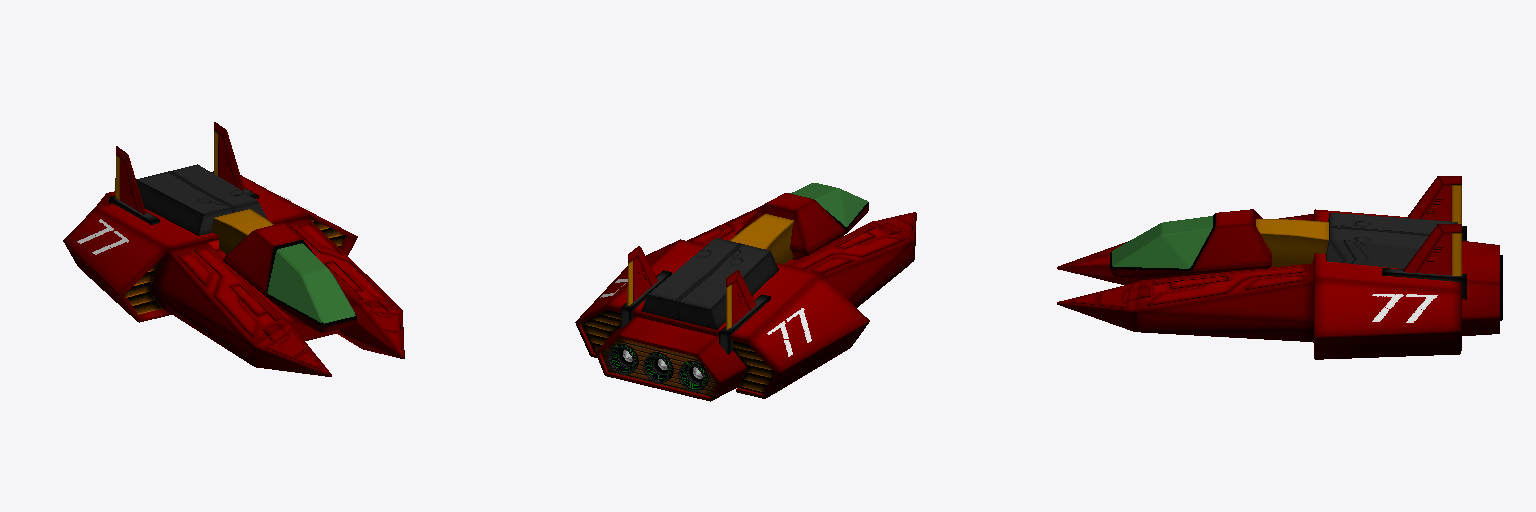
3 renders of one model, left to right at view 1: azimuth 30°, elevation 25°; view 2: azimuth 150°, elevation 25°; view 3: azimuth 270°, elevation 25°, orthographic.
Visible parts, largest first — view 1: 77_RedBull_a; view 2: 77_RedBull_a; view 3: 77_RedBull_a.
Part boxes in pixels (x1,y1,x2,y2): 77_RedBull_a: (63,122,404,376); 77_RedBull_a: (575,183,916,401); 77_RedBull_a: (1057,176,1502,359).
Bounding box in the file's own units: 3.25 × 1.46 × 5.26.
18 materials, 12 textured.